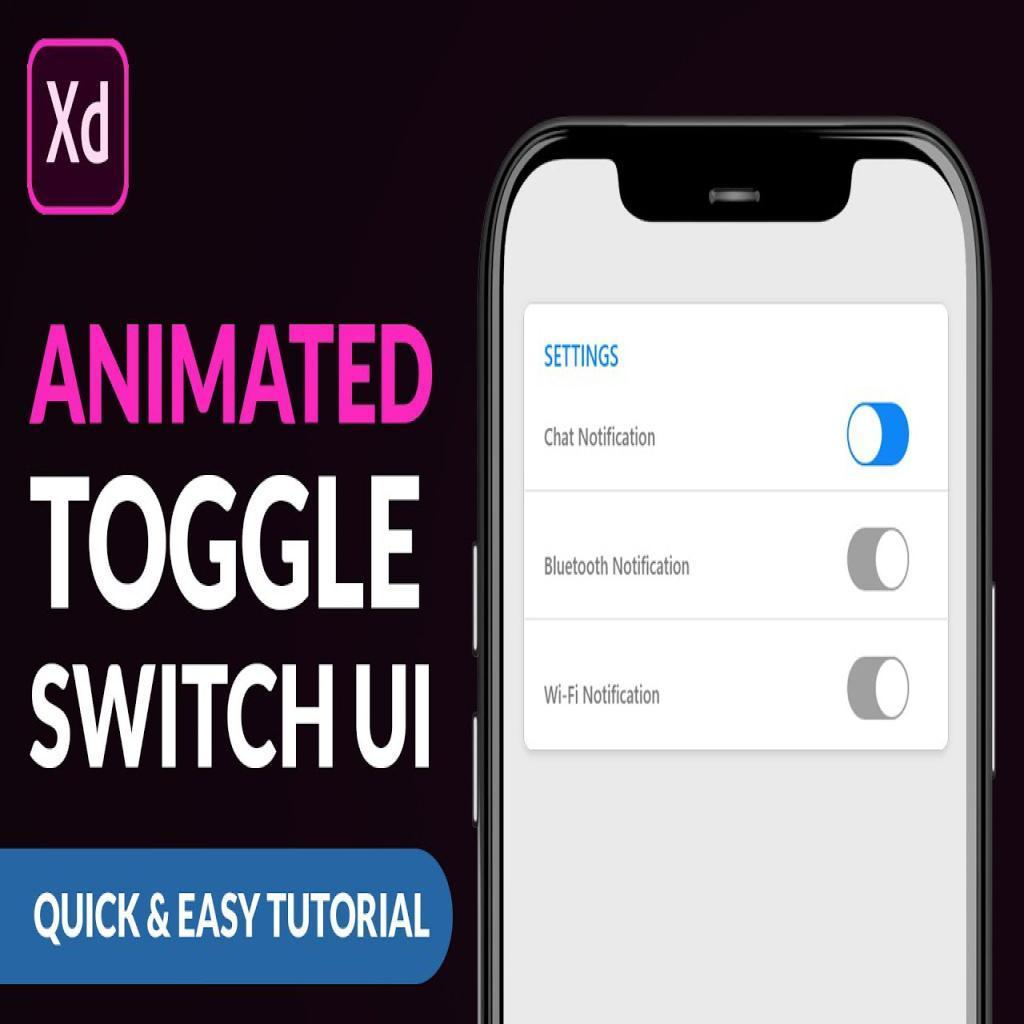label: (541, 549, 695, 595), (534, 424, 663, 461), (536, 680, 665, 713), (536, 338, 633, 379)
switch: (847, 528, 916, 592), (849, 402, 915, 468), (850, 657, 913, 723)
